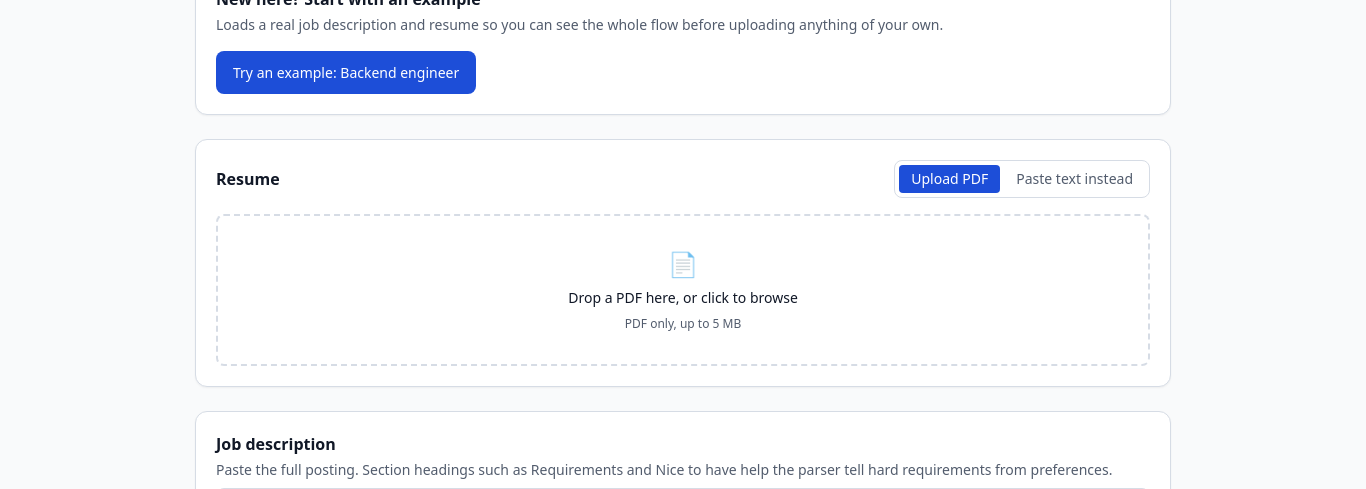
Test: input view › loads an example into both fields
Click the button "Try an example: Backend engineer": (346, 72) [216, 51, 476, 94]
(page scrolled)
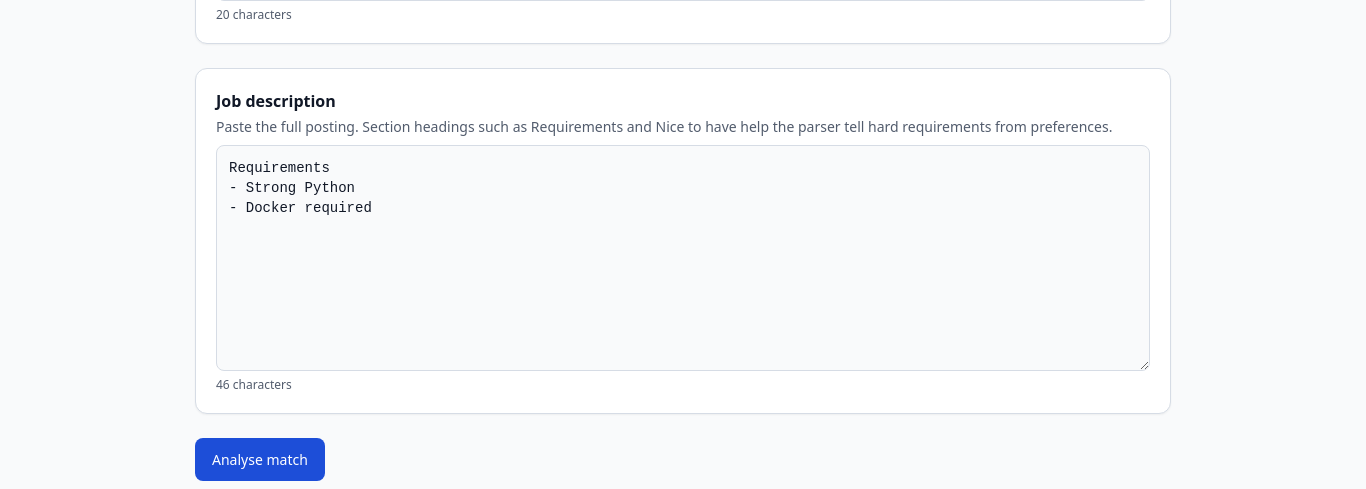
Check: the button "Analyse match" is enabled, box [195, 438, 325, 481]
